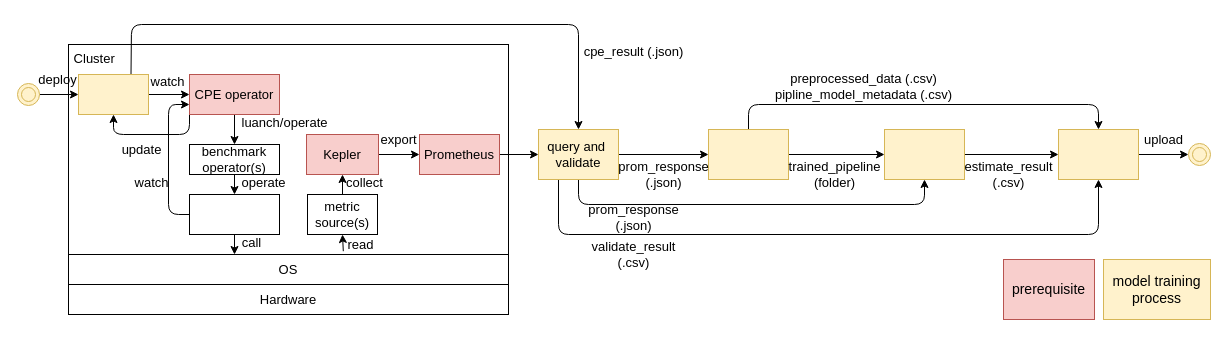
This 1228x337 diagram has some shape labels left out. Here are the shapes that lost their labels. From the top down, the centre of each, then its label:
(113,94): benchmark CR
(748,154): train
(924,154): estimate
(1098,154): report
(234,214): benchmark pod(s)
